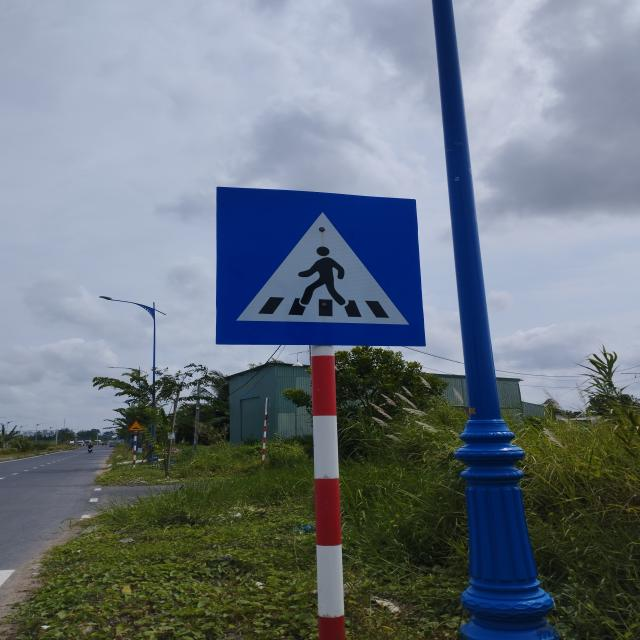Giao_Nhau_Duong_Uu_Tien: (215, 186, 428, 346)
